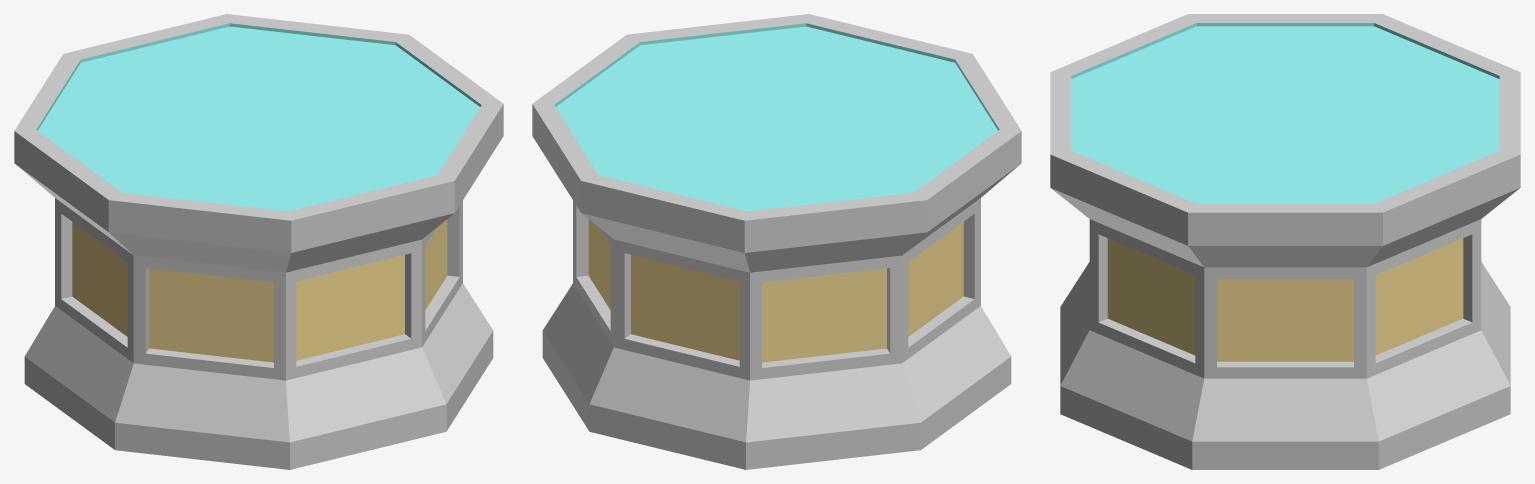
The model's file is SciFi_Table_Hologram_Round_White_01.fbx.
3 views of the same model, side by side, from view 1: azimuth 30°, elevation 25°; view 2: azimuth 150°, elevation 25°; view 3: azimuth 270°, elevation 25° (orthographic). The views are drawn at different scales.
Visible parts, largest first — view 1: SciFi_Table_Hologram_Round_White_01; view 2: SciFi_Table_Hologram_Round_White_01; view 3: SciFi_Table_Hologram_Round_White_01.
Part boxes in pixels (x1,y1,x2,y2): SciFi_Table_Hologram_Round_White_01: [14, 14, 503, 469]; SciFi_Table_Hologram_Round_White_01: [532, 14, 1021, 469]; SciFi_Table_Hologram_Round_White_01: [1050, 14, 1520, 469].
Bounding box in the file's own units: 79.23 × 48.62 × 79.23.
